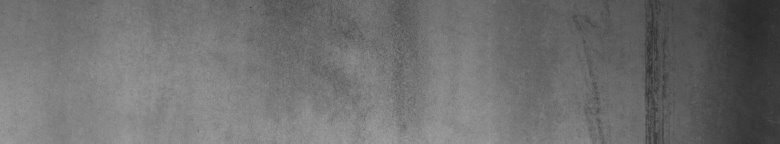ka: (573, 4, 668, 136)
